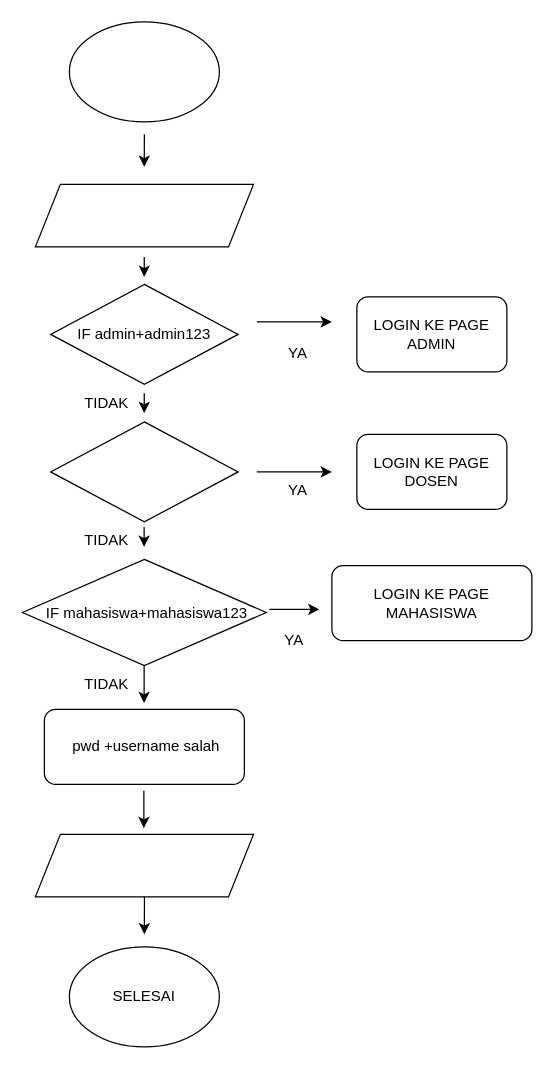
This 554x1069 diagram has some shape labels left out. Here are the shapes that lost their labels. From the top down, the box of each, then its label:
(68, 21, 219, 122): MULAI
(34, 183, 254, 247): INPUT USERNAME DAN PASWORD
(49, 421, 238, 522): IF dosen+dosen111
(34, 833, 254, 897): OUTPUT STATUS
